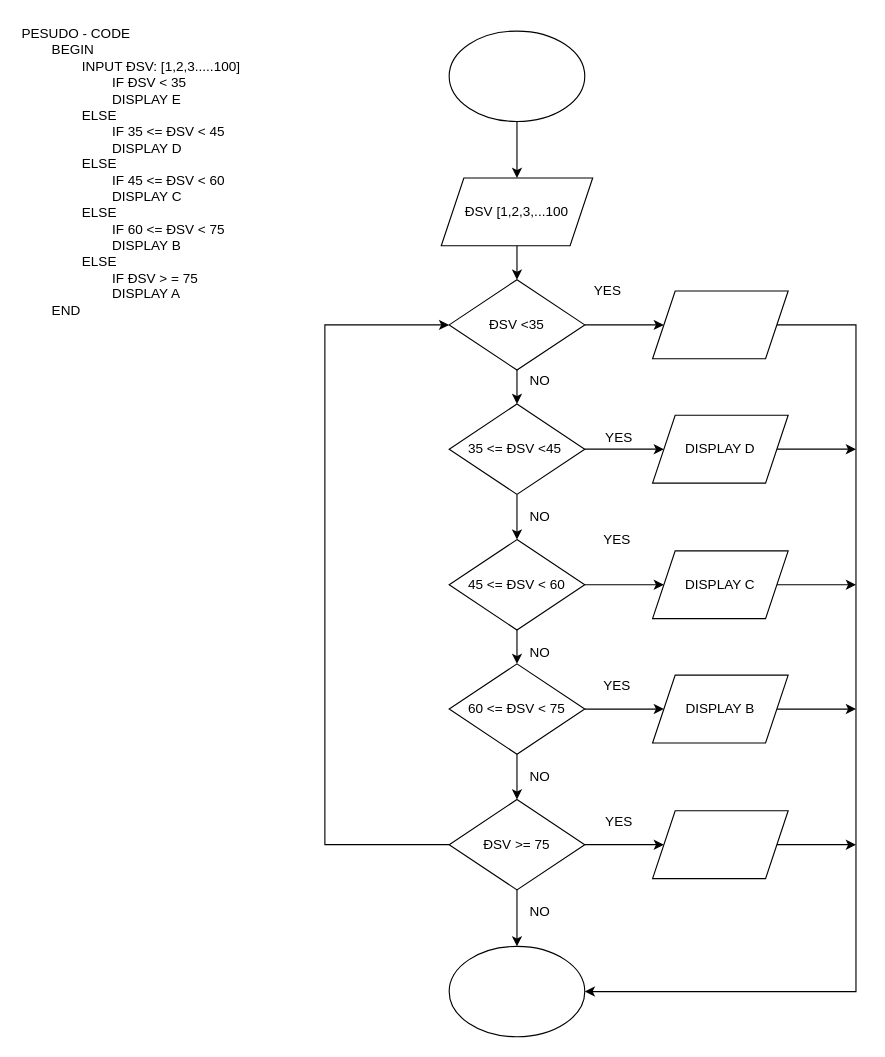
Some shapes in this 885 by 1057 pixel diagram are drawn without their labels. Each missing label, with the centre of its shape:
"BEGIN" belongs at [516,75].
"DISPLAY A" belongs at [719,844].
"DISPLAY E" belongs at [719,324].
"END" belongs at [516,991].
